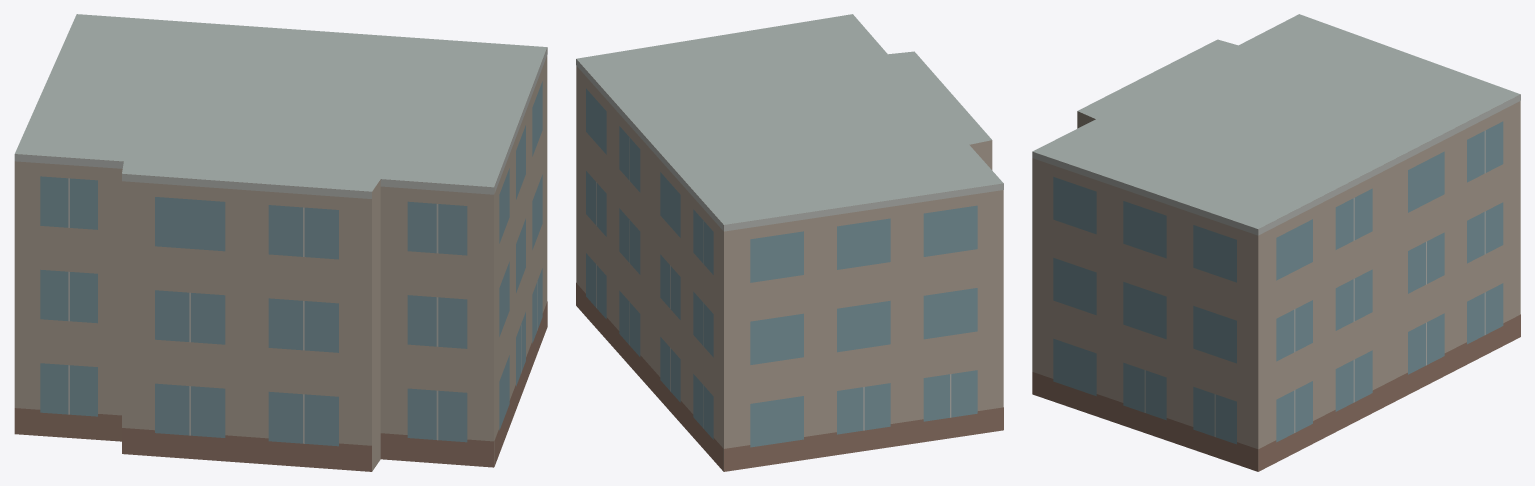
Rendered from survey-upis-32703293.glb.
The picture shows the model from 3 angles, left to right: view 1: azimuth 30°, elevation 25°; view 2: azimuth 150°, elevation 25°; view 3: azimuth 270°, elevation 25°; orthographic projection. The views are drawn at different scales.
Parts seen in each view (by area): view 1: survey-upis-32703293.tmp; view 2: survey-upis-32703293.tmp; view 3: survey-upis-32703293.tmp.
Boxes of the visible parts, bbox=[...] form: survey-upis-32703293.tmp: bbox=[14, 14, 547, 471]; survey-upis-32703293.tmp: bbox=[576, 14, 1003, 471]; survey-upis-32703293.tmp: bbox=[1032, 14, 1520, 471].
Size of the model in its own units: 17.4 by 9.15 by 16.7.
